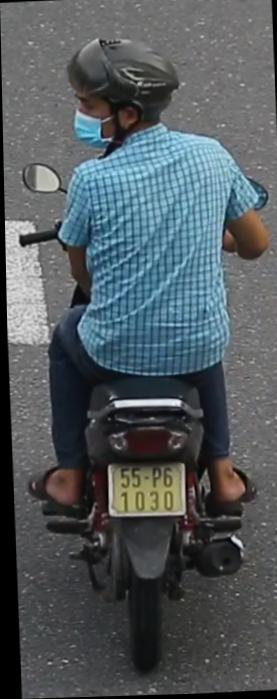LP: (101, 453, 188, 523)
helmet: (60, 20, 184, 162)
